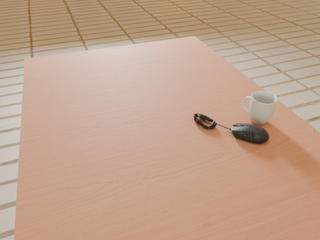cup: (242, 91, 277, 125)
mouse: (229, 124, 269, 144)
